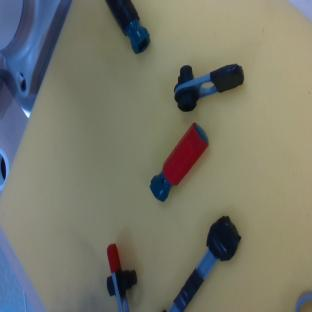part_1_bad: (170, 58, 247, 112)
part_1_good: (107, 244, 137, 311)
part_2_good: (143, 122, 214, 203)
part_3_bad: (150, 212, 250, 312)
